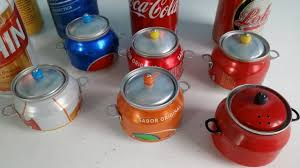can: (1, 1, 298, 167)
